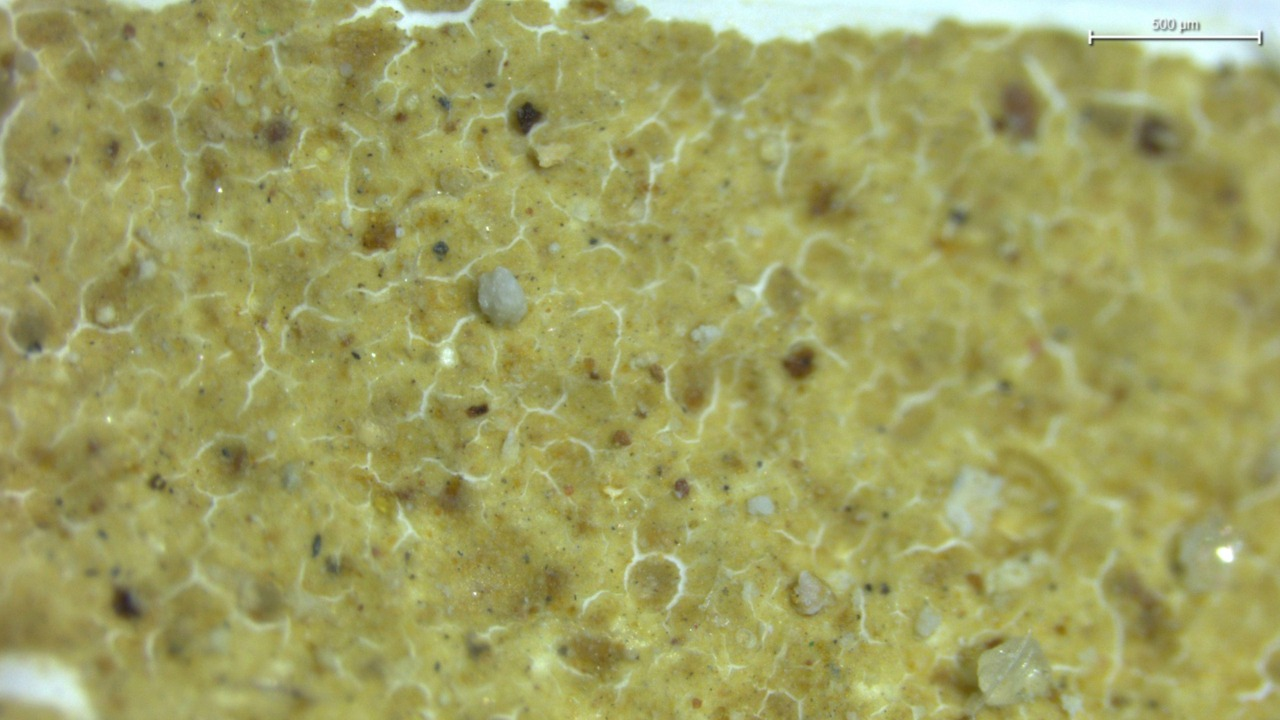microplastic_fragment: (977, 634, 1051, 706), (477, 267, 527, 326)
